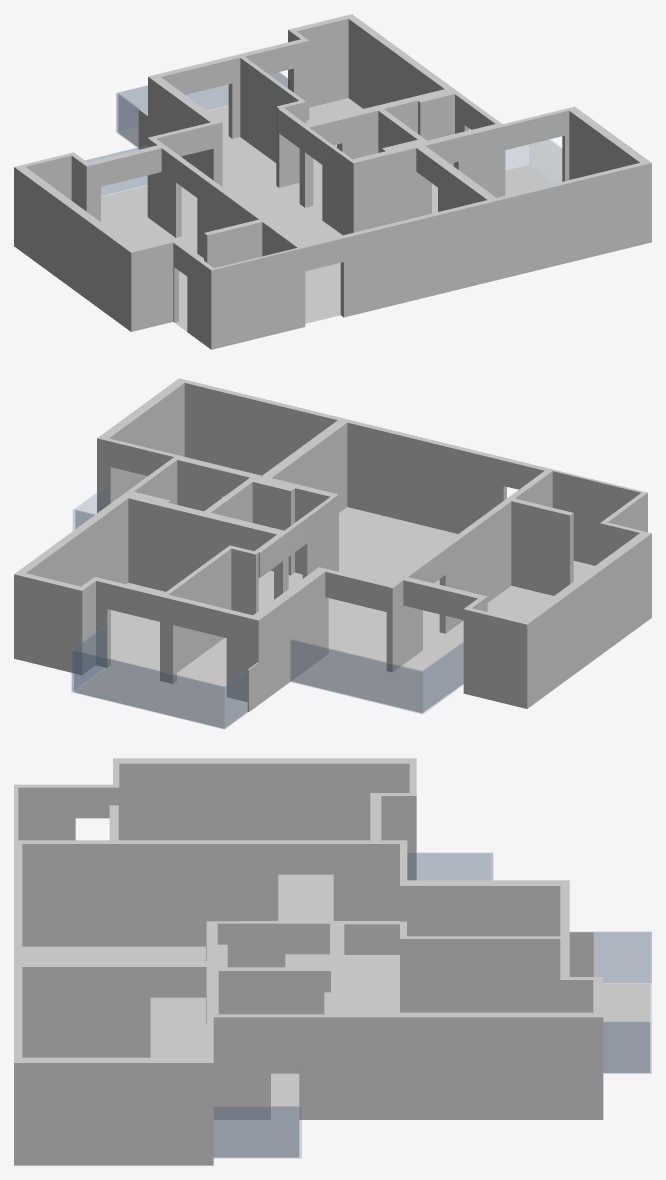
File: 3BHK FLOOR PLAN (2).gltf
3 renders of one model, top to bottom at view 1: azimuth 30°, elevation 25°; view 2: azimuth 150°, elevation 25°; view 3: azimuth 270°, elevation 25°, orthographic. The views are drawn at different scales.
Visible parts, largest first — view 1: SketchUp, ID27, ID13, ID33; view 2: SketchUp, ID27, ID33, ID13; view 3: SketchUp, ID27, ID21, ID13, ID33.
Part boxes in pixels (left/top/right/bottom): SketchUp: left=14, top=14, right=651, bottom=349; ID27: left=116, top=72, right=289, bottom=147; ID13: left=505, top=139, right=561, bottom=182; ID33: left=85, top=145, right=147, bottom=196; SketchUp: left=14, top=378, right=651, bottom=728; ID27: left=72, top=625, right=248, bottom=729; ID33: left=290, top=639, right=463, bottom=713; ID13: left=73, top=484, right=110, bottom=528; SketchUp: left=14, top=758, right=650, bottom=1165; ID27: left=594, top=932, right=651, bottom=1073; ID21: left=214, top=1107, right=301, bottom=1158; ID13: left=214, top=1069, right=301, bottom=1156; ID33: left=407, top=853, right=492, bottom=879.
Size of the model in its own units: 12.73 by 2 by 11.26.
